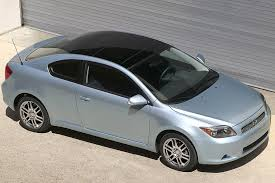car: (3, 29, 270, 169)
